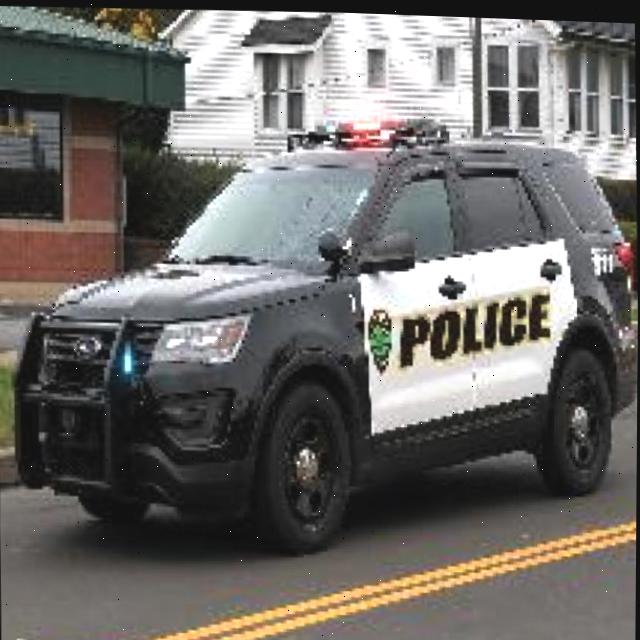emergency: (5, 103, 639, 567)
